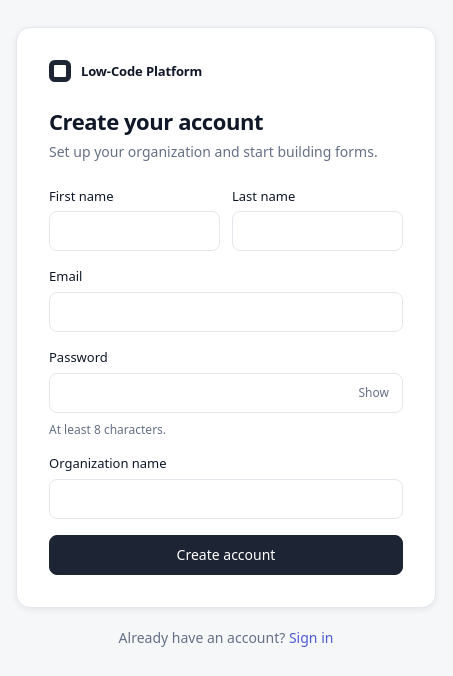
RegisterPage › validates the email format
This screenshot has width=453, height=676.
Expected: the heading "Create your account" is shown, [49,106,263,136]
Step 1. Type "Ada" into the field labelled "First name" → (134, 231), box [49,211,220,251]
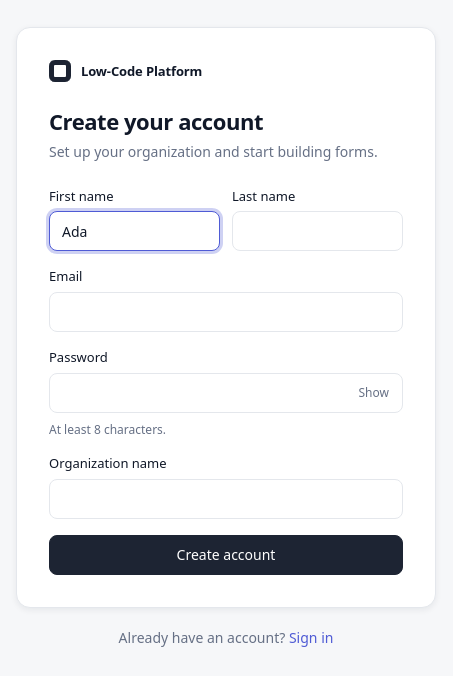
Step 2. Type "Lovelace" into the field labelled "Last name" → (318, 231), box [232,211,403,251]
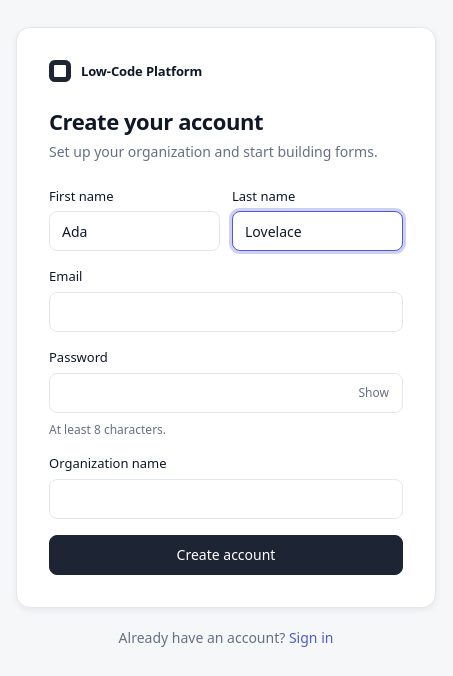
Step 3. Type "not-an-email" into the field labelled "Email" → (226, 312), box [49,292,403,332]
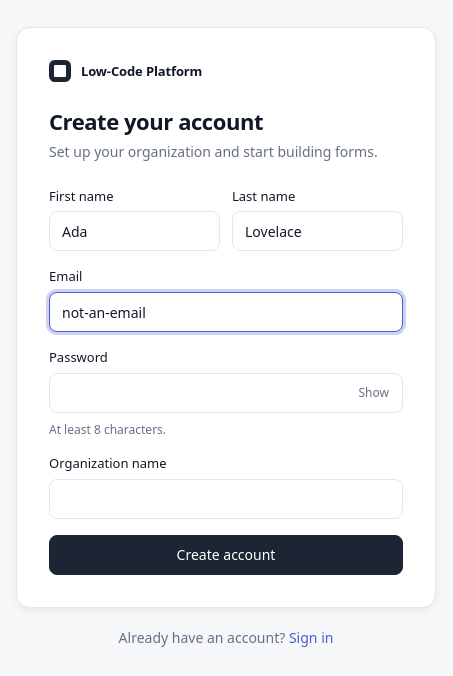
Step 4. Type "Sup3r-Secret-Pass" into the password field labelled "Password" → (226, 393), box [49,373,403,413]
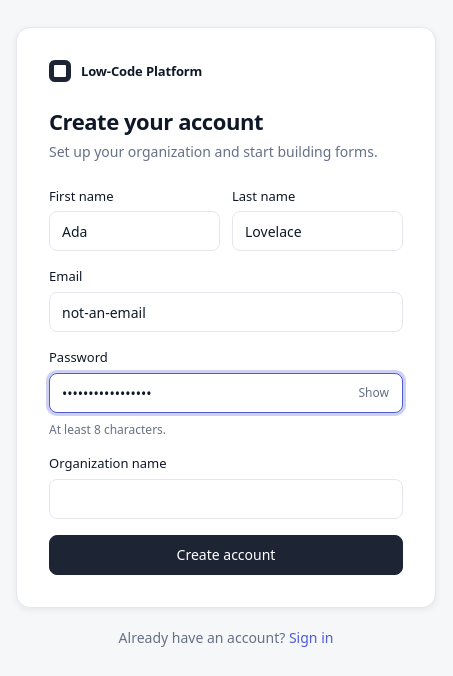
Step 5. Type "Analytical Engines" into the field labelled "Organization name" → (226, 499), box [49,479,403,519]
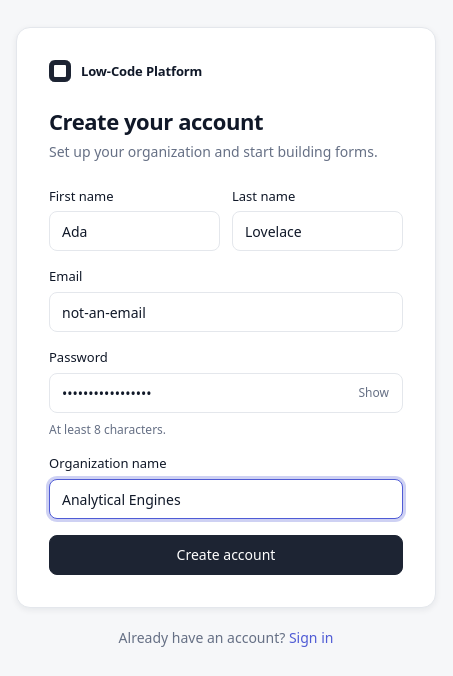
Step 6. Click the button "Create account" → (226, 555), box [49,535,403,575]
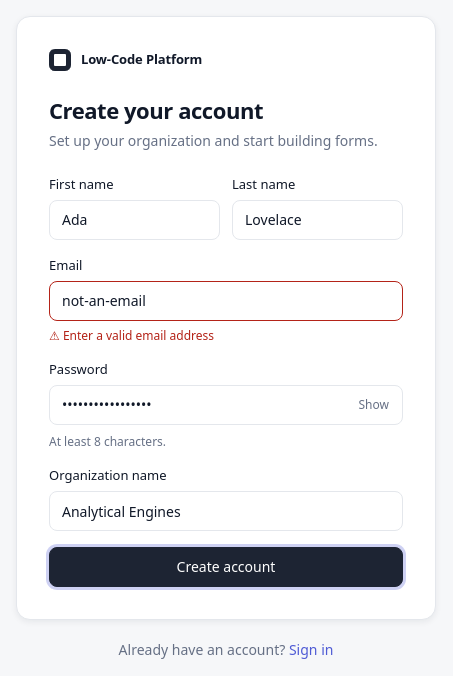
Expected: the text "Enter a valid email address" is shown, [63,326,214,344]
